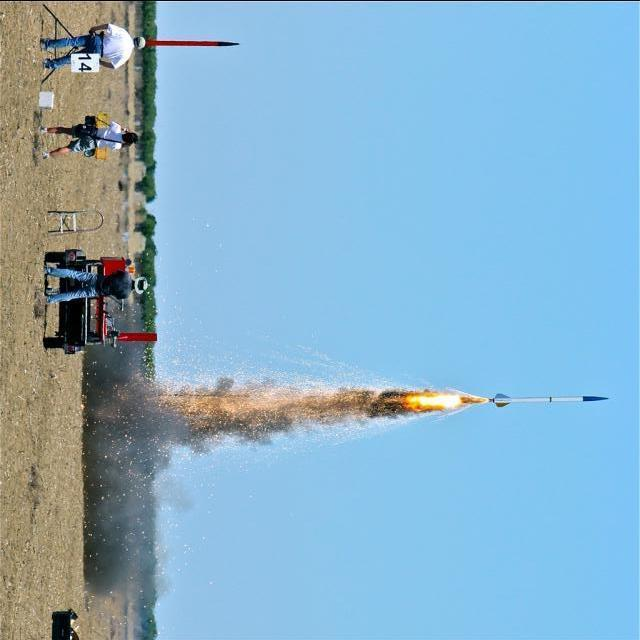missile: (473, 390, 615, 420)
